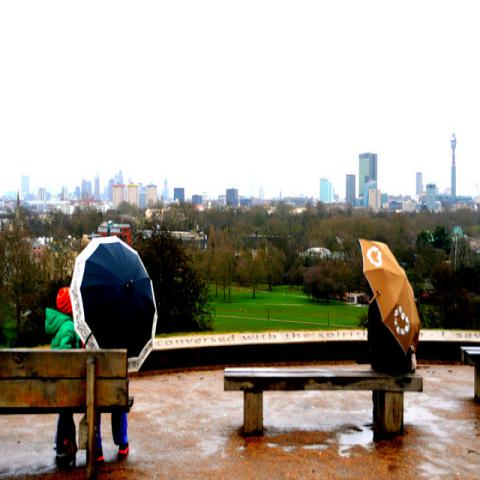car: (302, 248, 326, 259)
